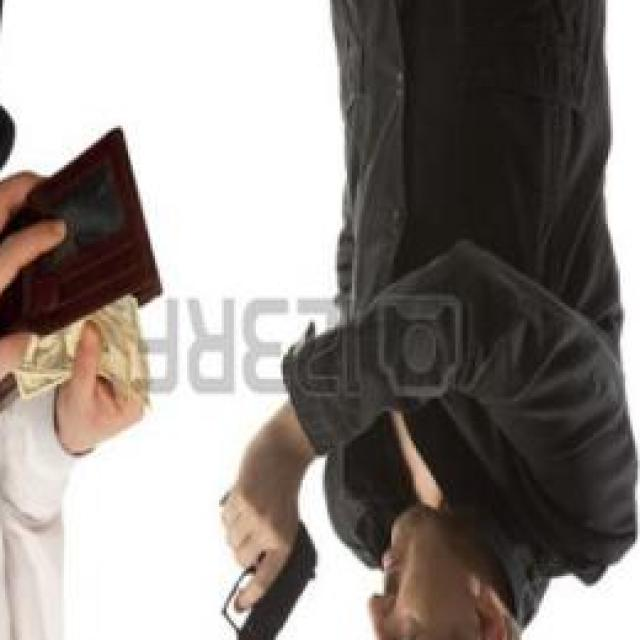pistol: (214, 482, 320, 640)
